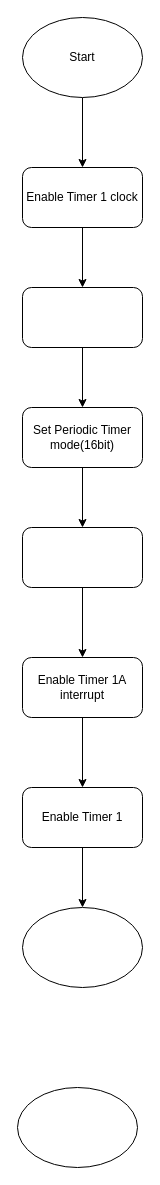
The diagram is 160 pixels wide and 1185 high, and some of its shapes have lost their labels. The centre of each missing label's shape, as x and y in pixels:
Disable Timer 1: (x=82, y=317)
Set Load value of 16000: (x=82, y=557)
Stop: (x=82, y=947)
